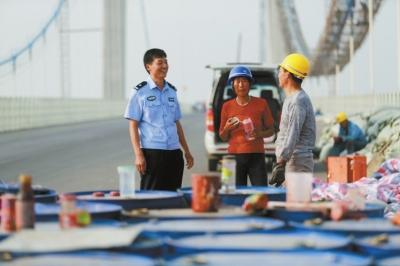helmet: (281, 55, 312, 79), (229, 67, 255, 83), (339, 112, 349, 124)
